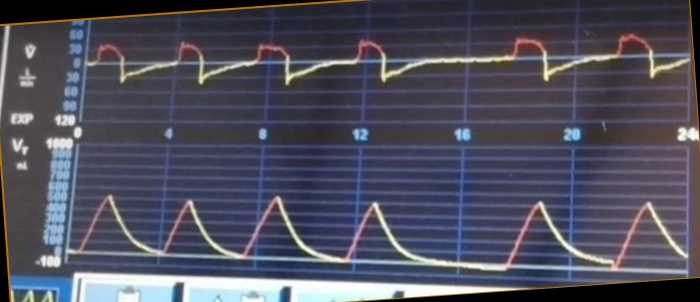Normal Flow: (89, 24, 687, 109)
Normal Volume: (72, 181, 686, 272)
